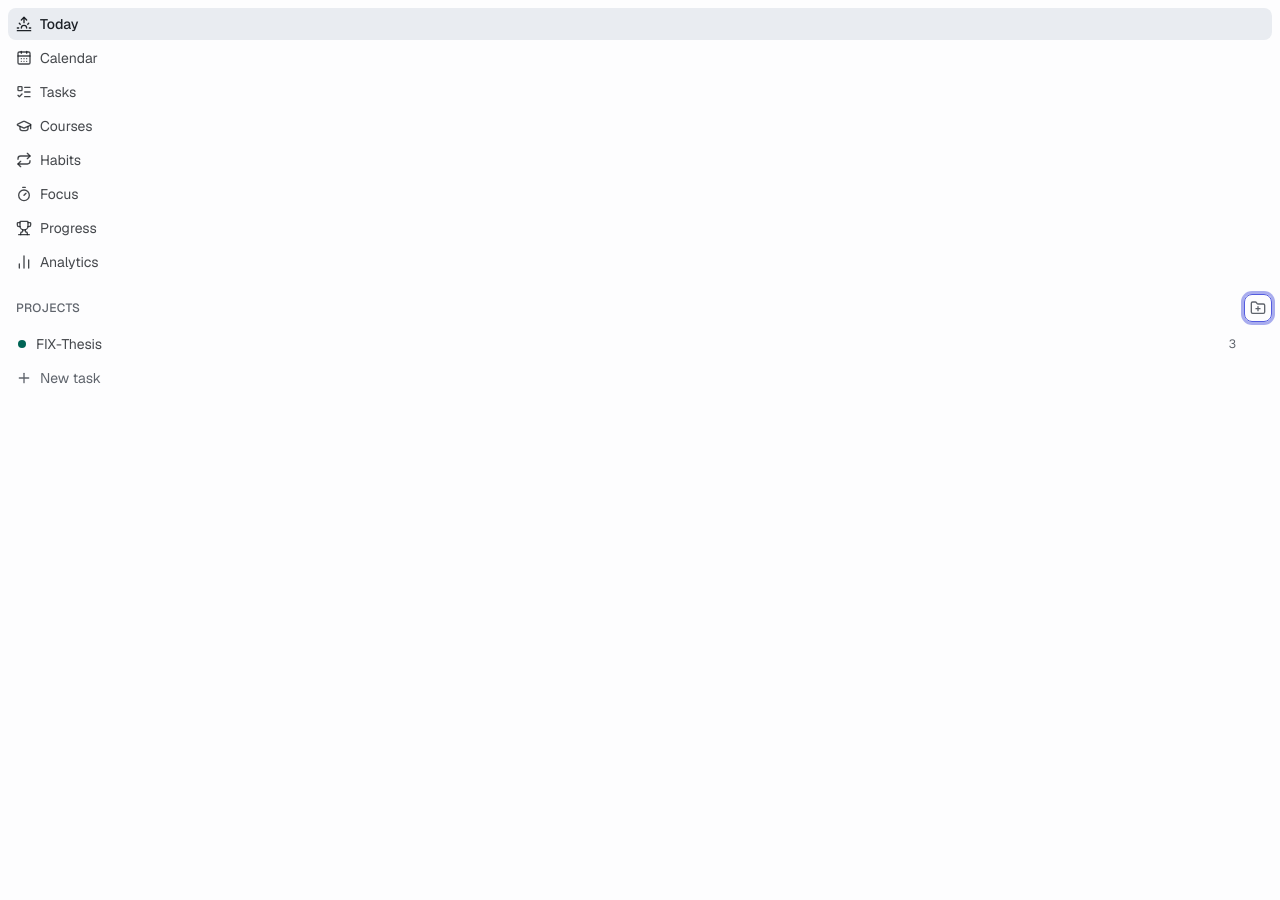
Test case: creating a project › opens the dialog from the list header and creates with a client-generated id
Click the button named "New project" at [1258, 308], box [1244,294,1272,322]
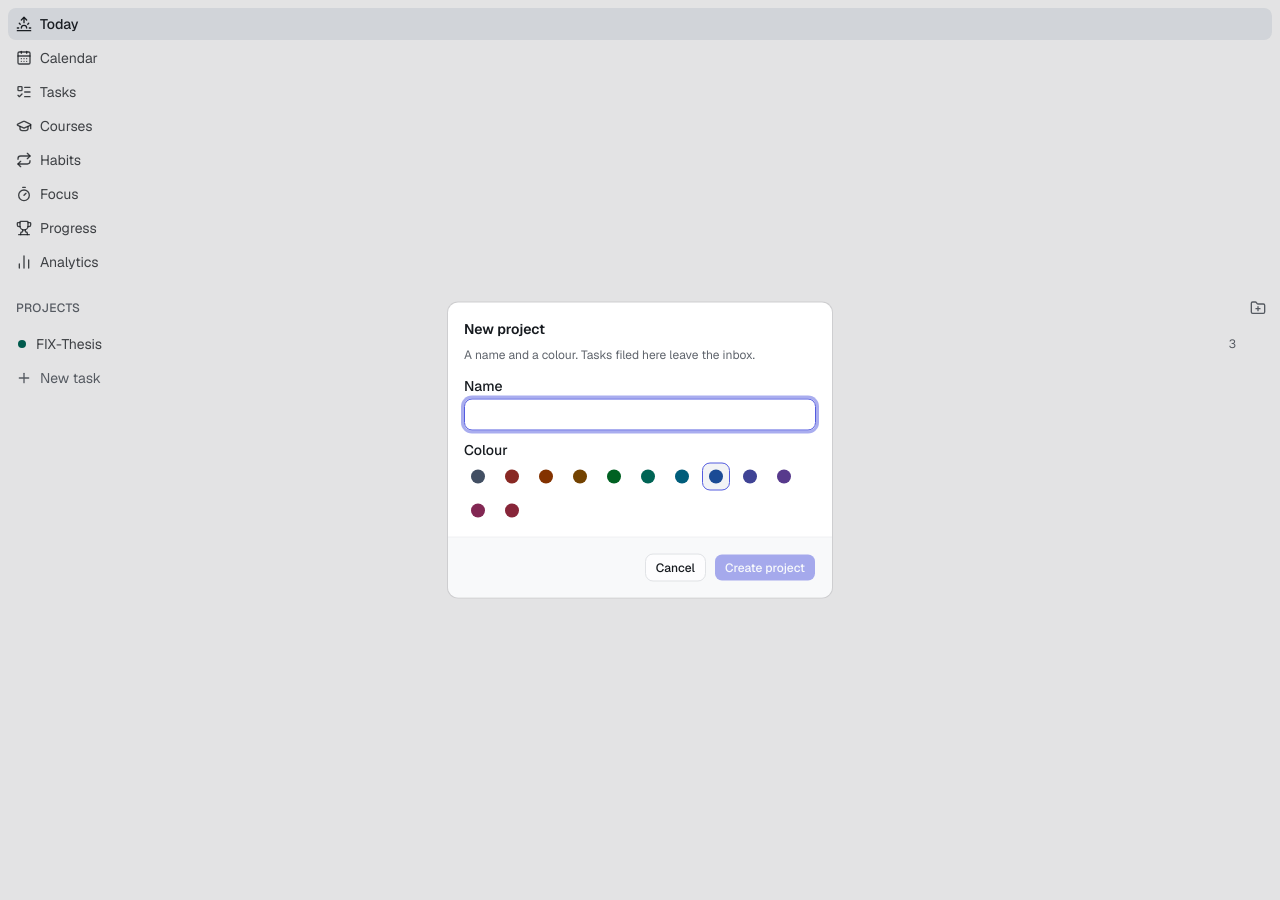
Type "FIX-Reading" into the field labelled "Name" at [640, 414], box [464,398,816,430]
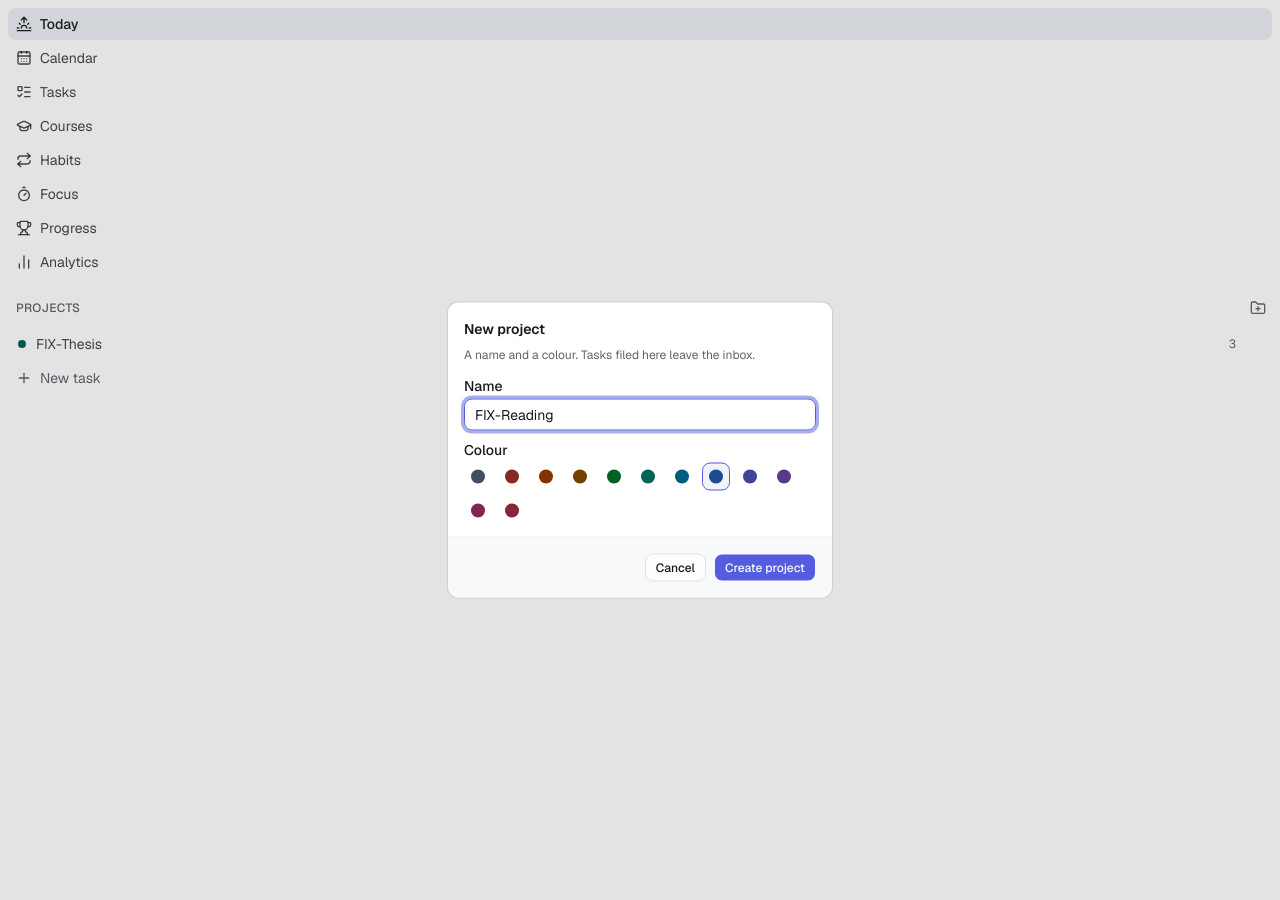
Click the radio button named "Teal" at [648, 476], box [634,462,662,490]
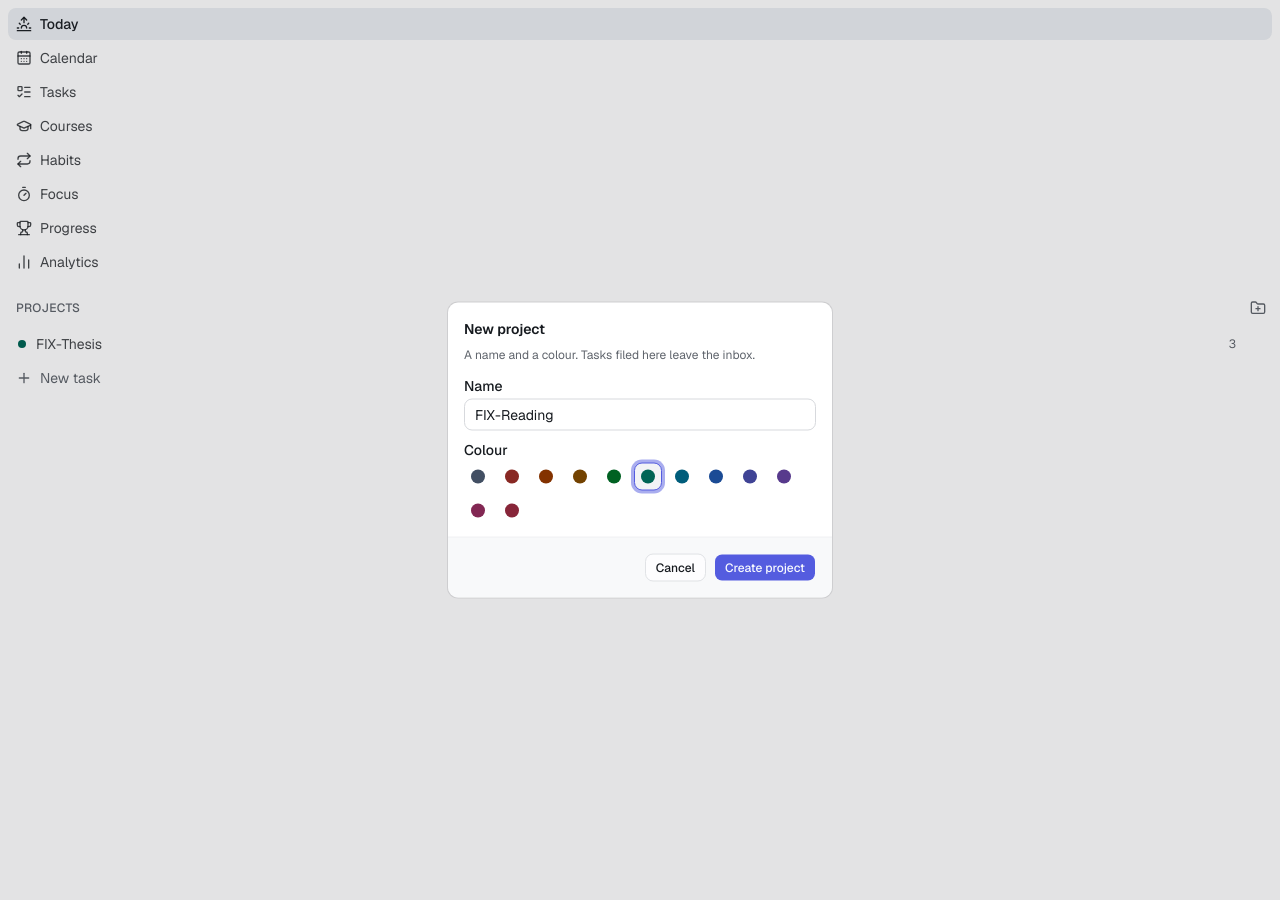
Submit the form, box [464,378,816,582]
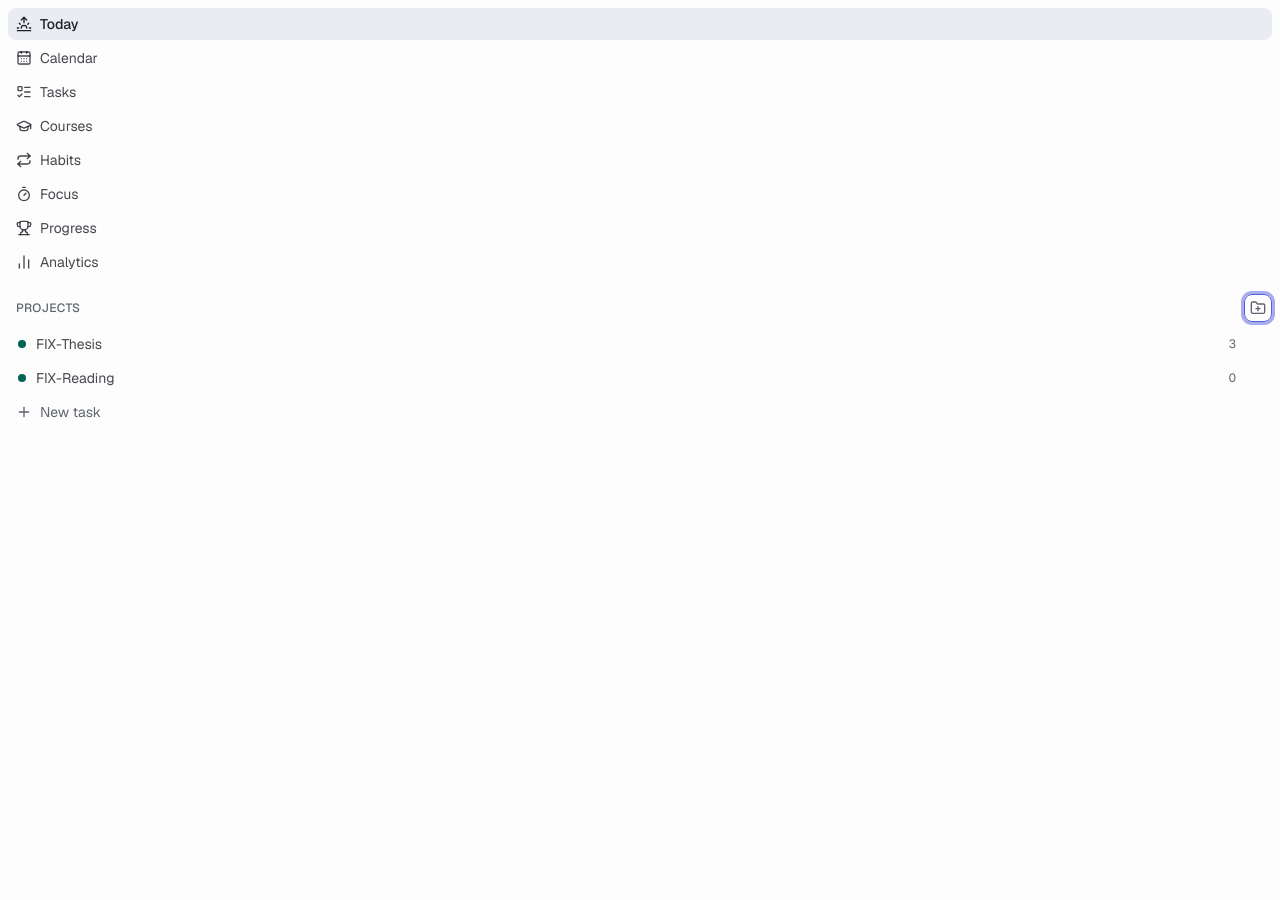
Expected: the dialog is gone
Expected: the text "FIX-Reading" is shown, [36,369,115,387]
Expected: the link "FIX-Reading 0" is shown, [18,369,1236,387]
